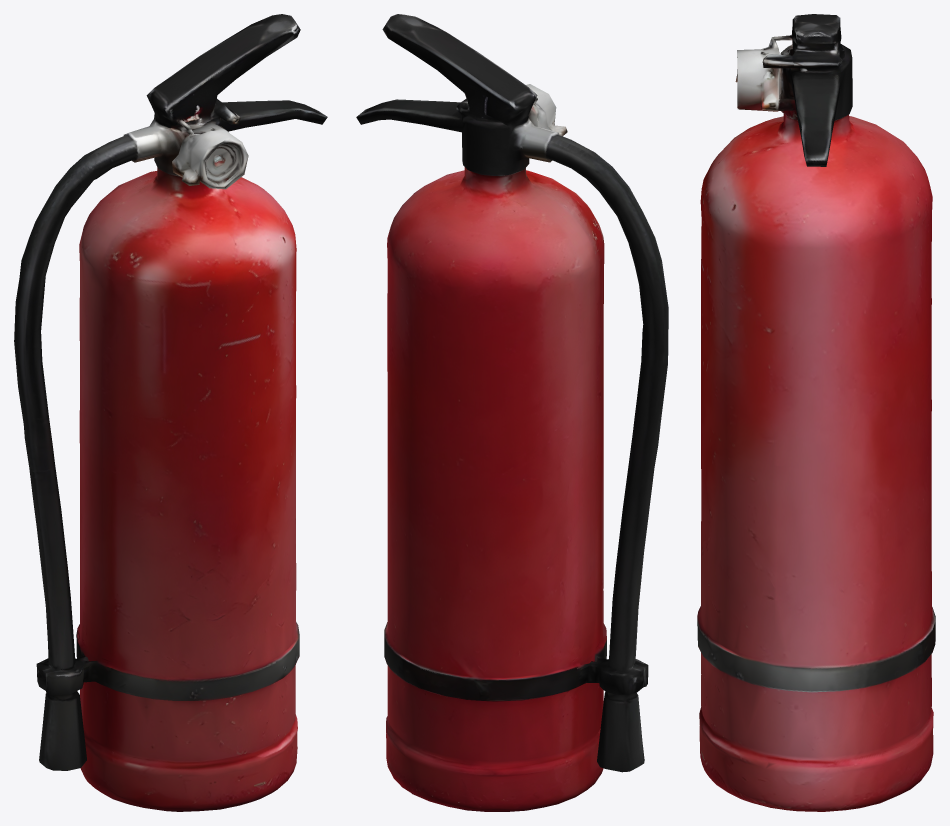
File: fire_extinguisher.fbx
3 renders of one model, left to right at view 1: azimuth 30°, elevation 25°; view 2: azimuth 150°, elevation 25°; view 3: azimuth 270°, elevation 25°, orthographic. The views are drawn at different scales.
Visible parts, largest first — view 1: fire_extinguisher; view 2: fire_extinguisher; view 3: fire_extinguisher.
Part boxes in pixels (x1,y1,x2,y2): fire_extinguisher: (14, 14, 327, 811); fire_extinguisher: (356, 14, 668, 811); fire_extinguisher: (697, 14, 935, 811).
Size of the model in its own units: 0.2645 by 0.5999 by 0.1642.
Materials: 1 (1 with a texture image).
